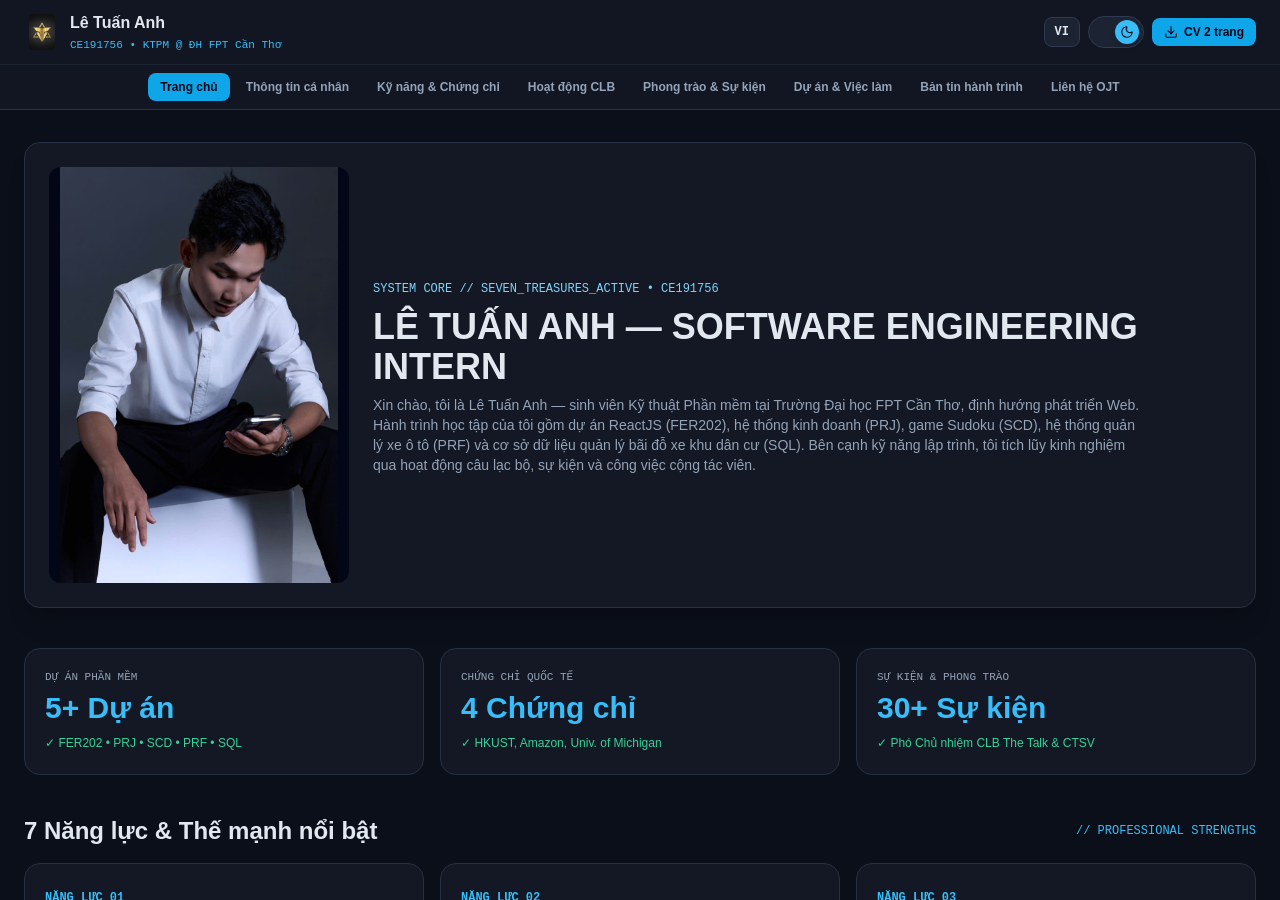
Test case: keeps club activities separate from events and movements
The width and height of the screenshot is (1280, 900).
Step 1. Click the button "Phong trào & Sự kiện" → (704, 87), box [631,73,778,101]
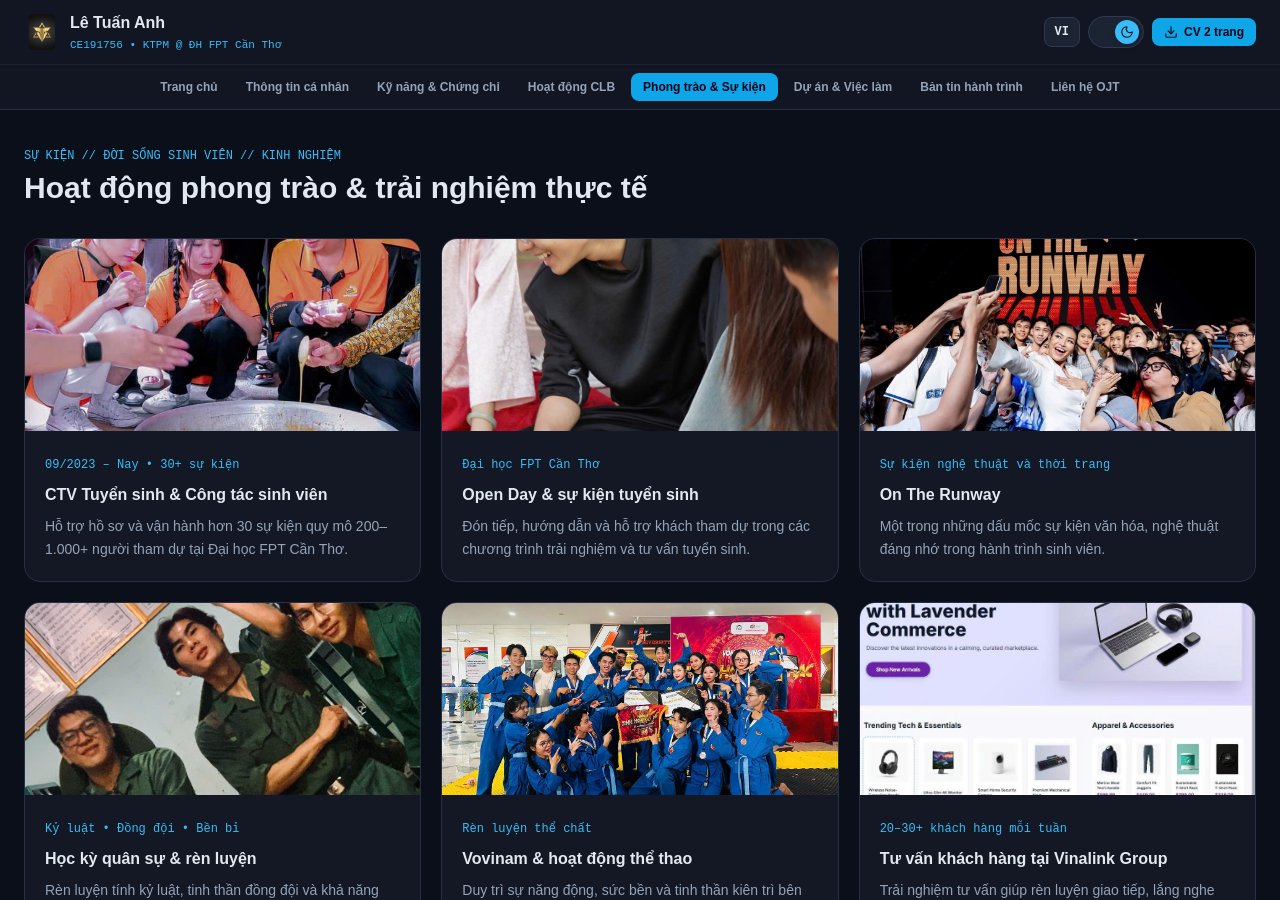
Expected: the text "Phó Chủ nhiệm CLB Kỹ năng mềm The Talk - FTT" is not shown
Expected: the heading "Hoạt động phong trào & trải nghiệm thực tế" is shown, [24,171,647,204]
Expected: the heading "CTV Tuyển sinh & Công tác sinh viên" is shown, [45,486,327,503]
Step 2. Click the button "Hoạt động CLB" → (571, 87), box [516,73,627,101]
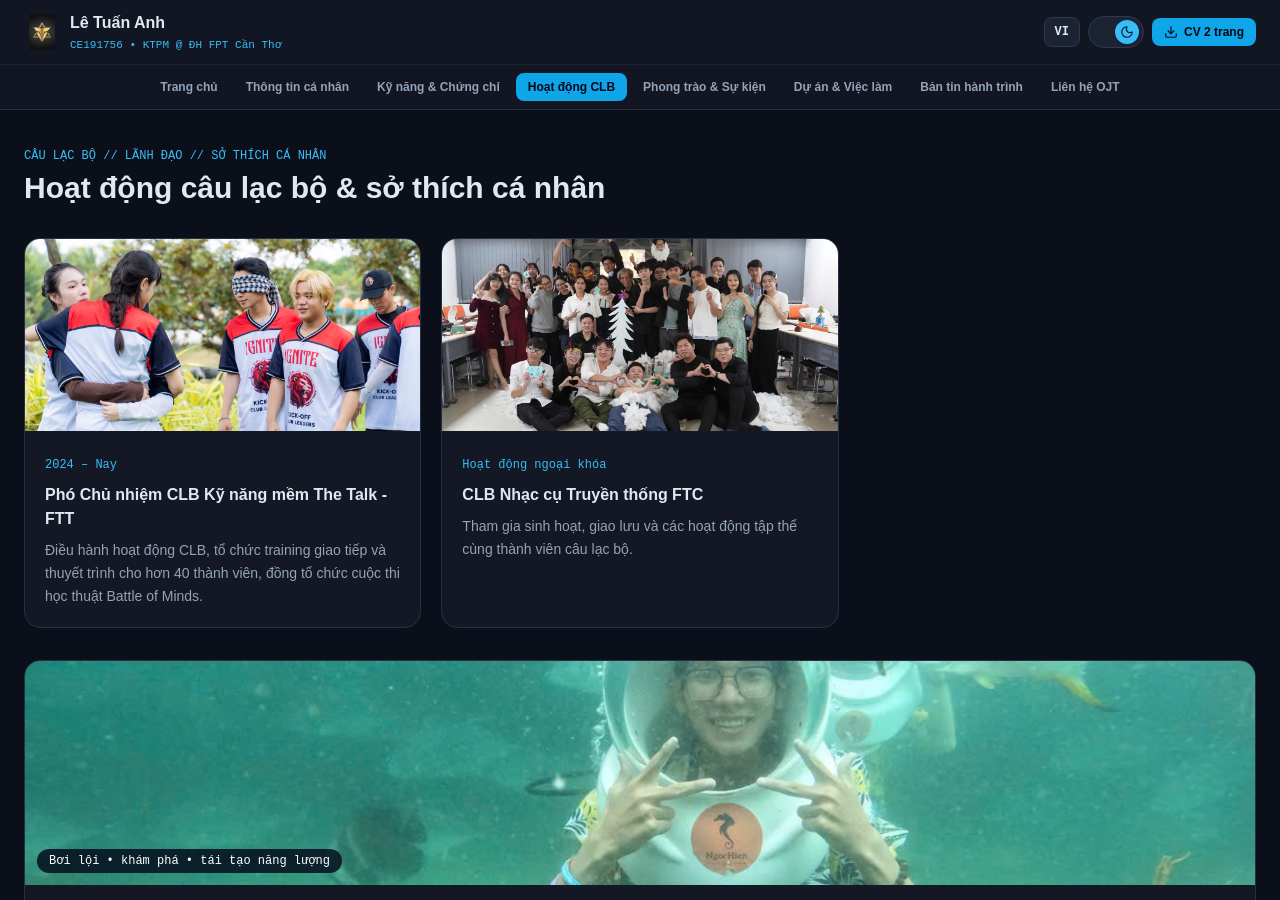
Expected: the heading "Hoạt động câu lạc bộ & sở thích cá nhân" is shown, [24,171,605,204]
Expected: the heading "Phó Chủ nhiệm CLB Kỹ năng mềm The Talk - FTT" is shown, [45,483,400,531]
Expected: the heading "CTV Tuyển sinh & Công tác sinh viên" is gone
